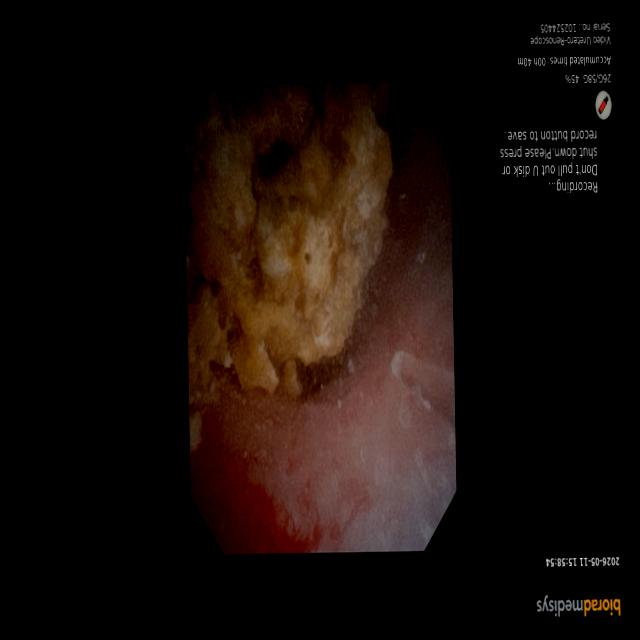laser-fibre: (395, 350, 456, 426)
stone-new: (185, 84, 392, 405)
